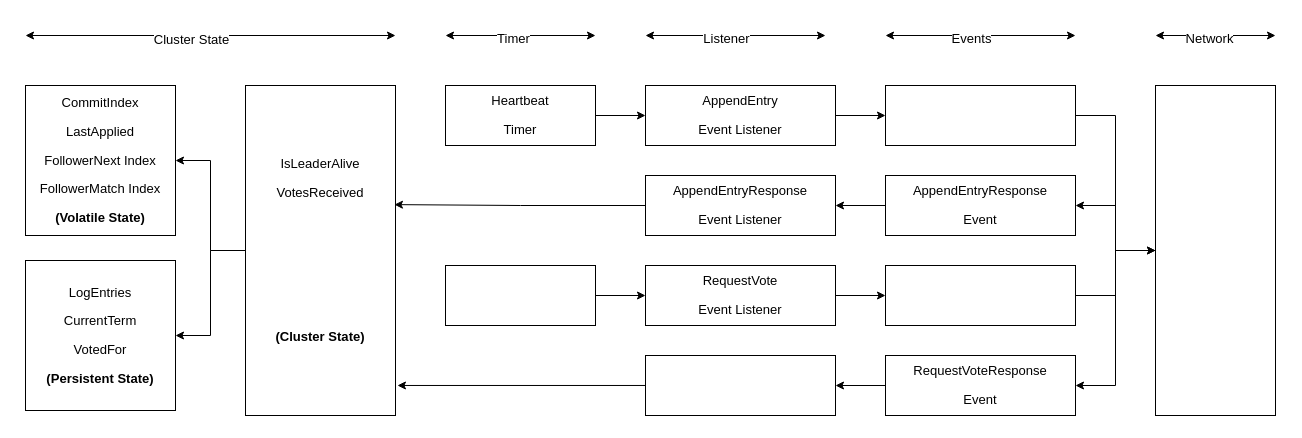
Some shapes in this 1302 by 438 pixel diagram are drawn without their labels. Each missing label, with the centre of its shape:
AppendEntry Event: pixel 980 115
Election Timer: pixel 520 295
RequestVote Event: pixel 980 295
RequestVoteResponse Event Listener: pixel 740 385
Websocket Network: pixel 1215 250
